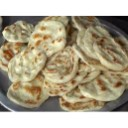parota: (80, 69, 126, 101), (6, 76, 49, 109), (43, 48, 79, 84), (30, 21, 67, 54), (9, 50, 45, 81), (95, 37, 127, 70), (3, 19, 37, 43)
